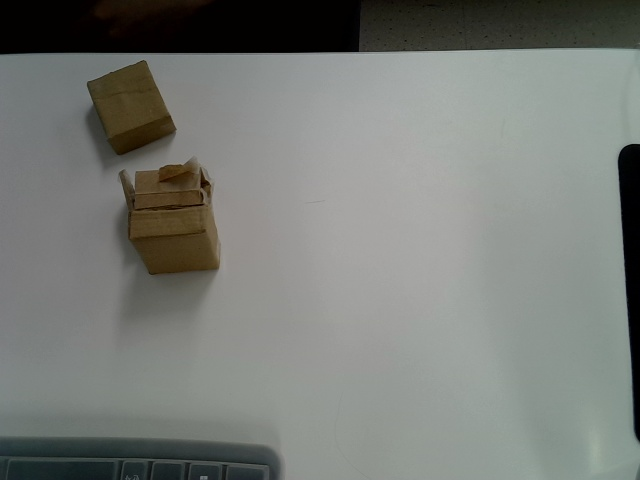defect: (118, 156, 216, 209)
normal: (87, 59, 176, 155), (129, 204, 223, 276)
